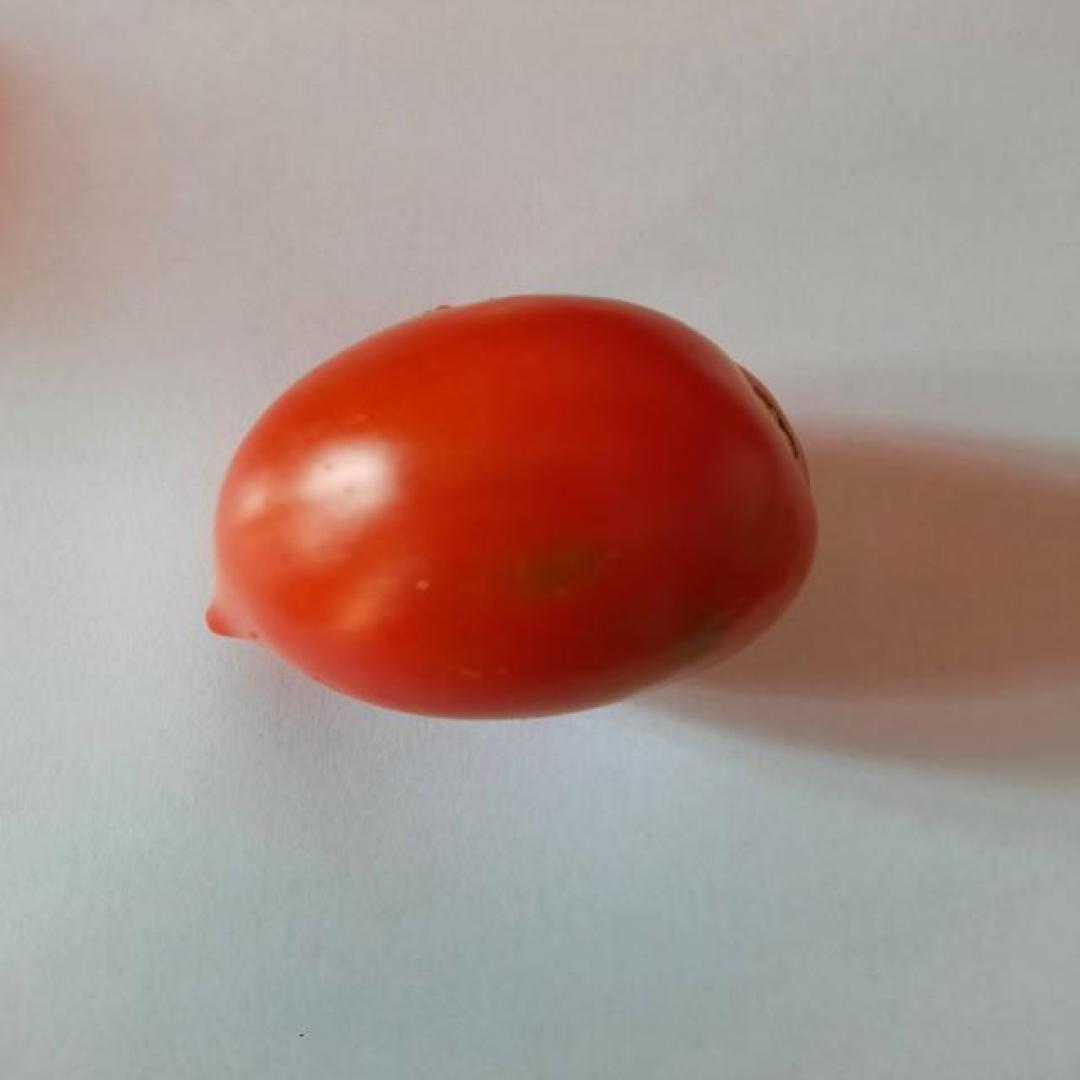matang: (201, 292, 820, 720)
